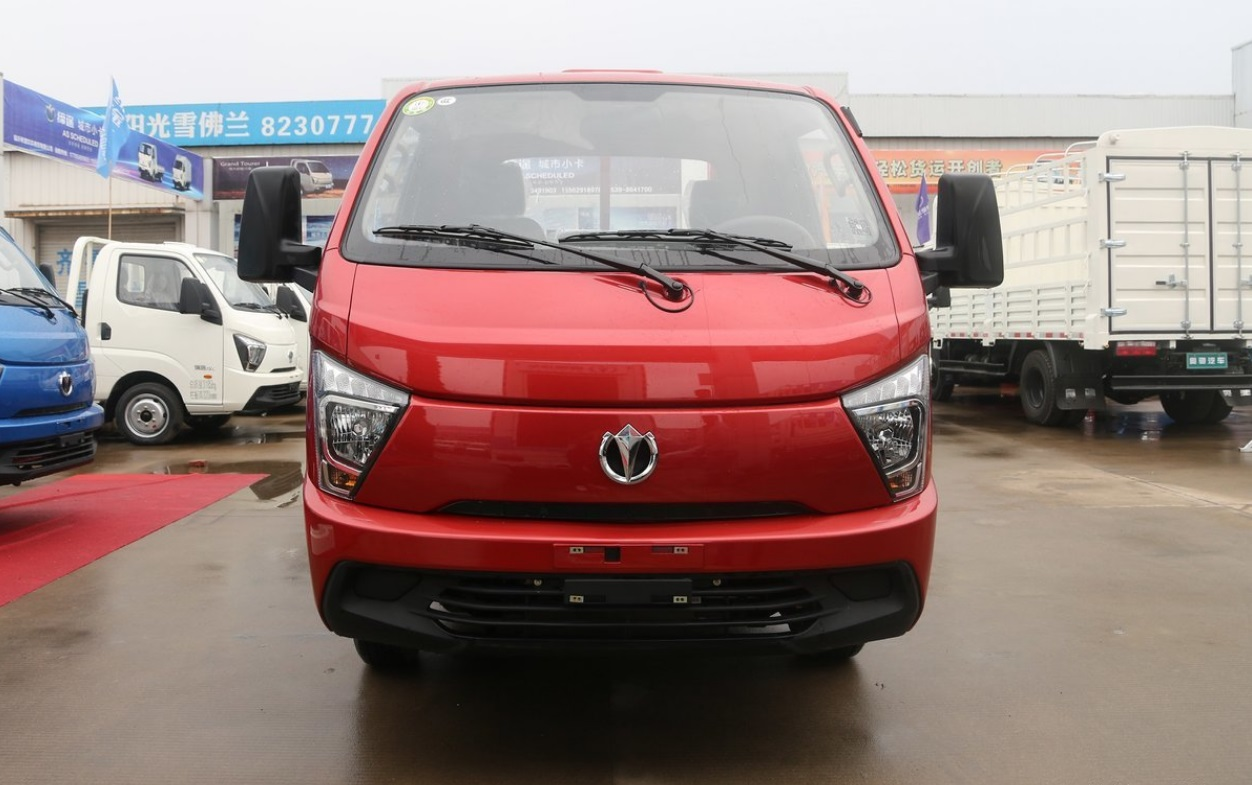truck: (236, 65, 1011, 709)
